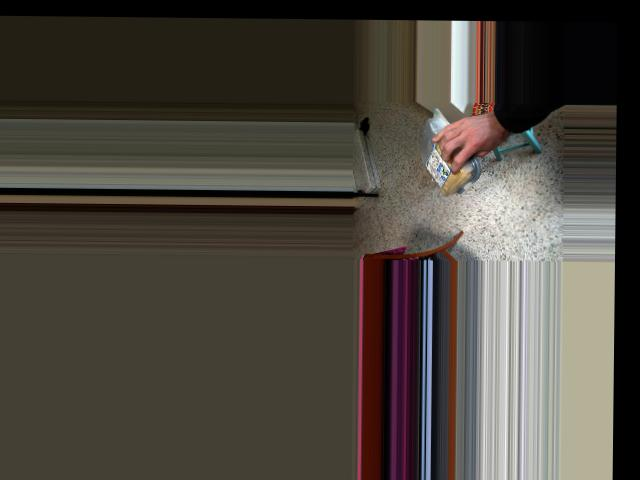cheese: (427, 112, 467, 205)
